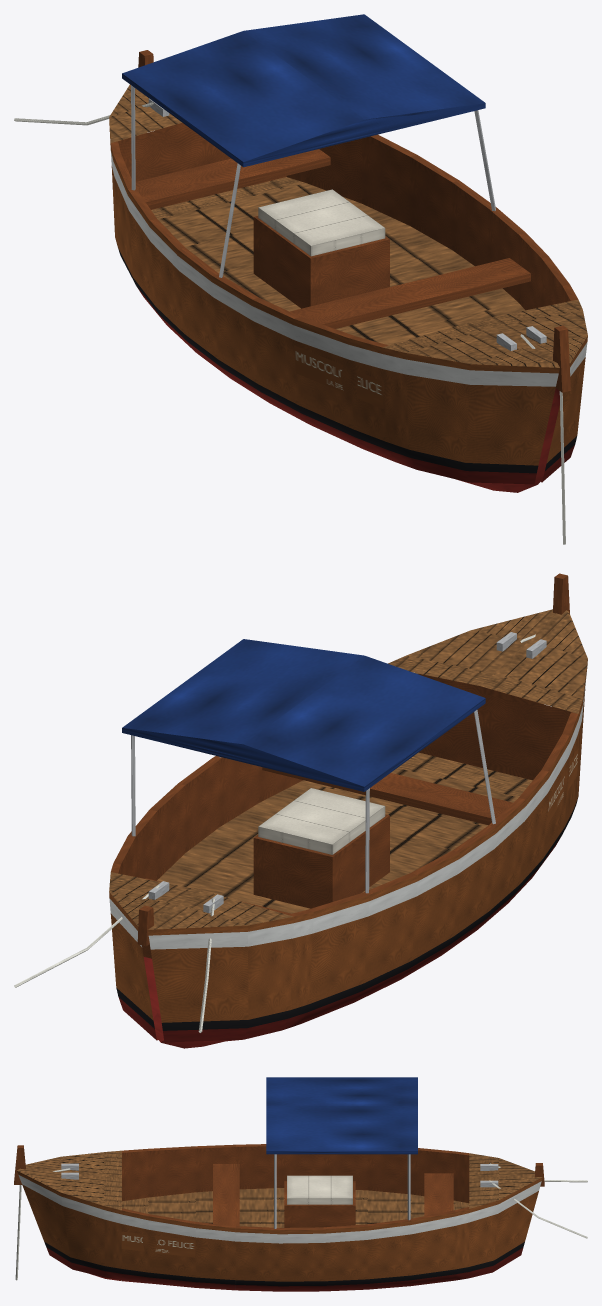
File: SM_Morin_Barca_Gozzo_Legno.fbx
3 views of the same model, one above another, from view 1: azimuth 30°, elevation 25°; view 2: azimuth 150°, elevation 25°; view 3: azimuth 270°, elevation 25° (orthographic). The views are drawn at different scales.
Parts seen in each view (by area): view 1: SM_Morin_Barca_Gozzo_Legno; view 2: SM_Morin_Barca_Gozzo_Legno; view 3: SM_Morin_Barca_Gozzo_Legno.
Part boxes in pixels (x1,y1,x2,y2): SM_Morin_Barca_Gozzo_Legno: (14, 14, 587, 544); SM_Morin_Barca_Gozzo_Legno: (14, 573, 587, 1048); SM_Morin_Barca_Gozzo_Legno: (14, 1077, 587, 1291).
Bounding box in the file's own units: 229 × 644 × 222.
Materials: 1 (1 with a texture image).
